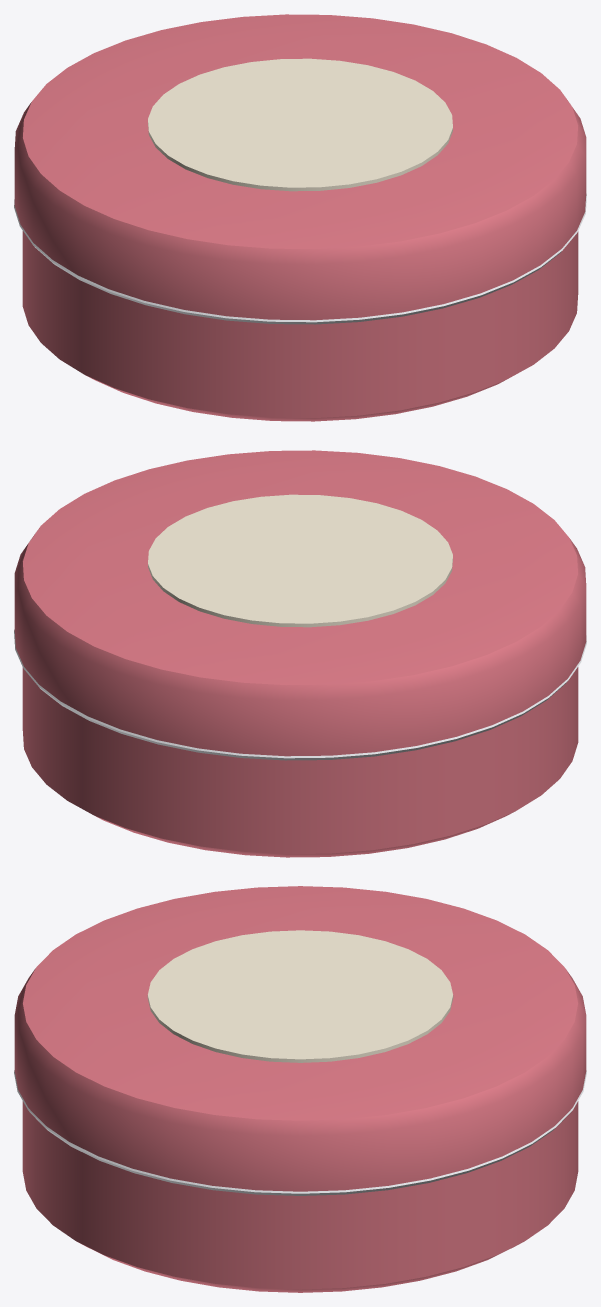
The model's file is sewing_tin.glb.
3 views of the same model, one above another, from view 1: azimuth 30°, elevation 25°; view 2: azimuth 150°, elevation 25°; view 3: azimuth 270°, elevation 25° (orthographic).
Parts seen in each view (by area): view 1: sewing_tin; view 2: sewing_tin; view 3: sewing_tin.
Part boxes in pixels (<box>): sewing_tin: <box>14,14,586,421</box>; sewing_tin: <box>14,450,586,857</box>; sewing_tin: <box>14,886,586,1292</box>.
Size of the model in its own units: 0.1754 by 0.0629 by 0.1754.
